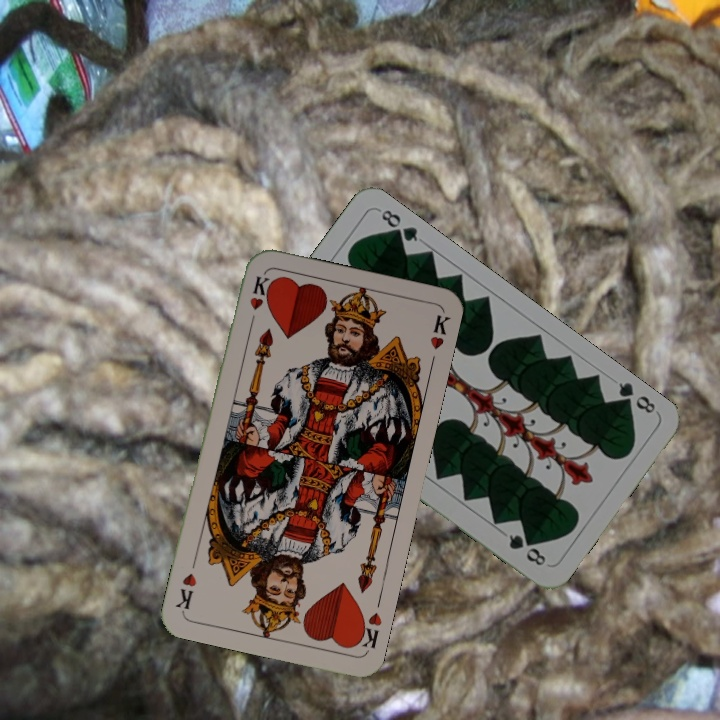G8: (612, 378, 658, 416)
HK: (245, 272, 272, 330), (351, 608, 384, 651)
